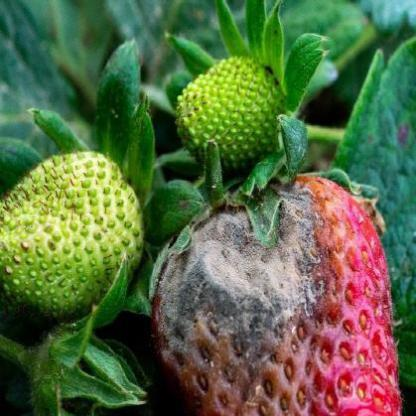Strawberry_Gray_Mold: (148, 151, 402, 415)
